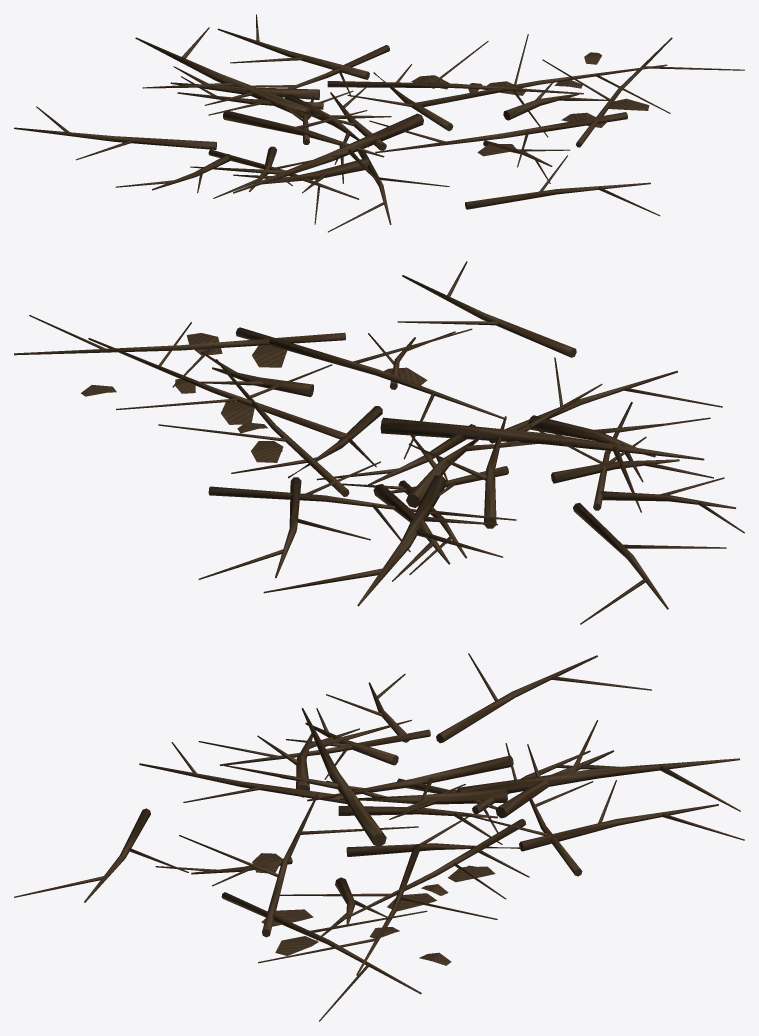
File: Small_Deadwood_Scatter_01_LOD0.fbx
3 renders of one model, top to bottom at view 1: azimuth 30°, elevation 25°; view 2: azimuth 150°, elevation 25°; view 3: azimuth 270°, elevation 25°, orthographic. The views are drawn at different scales.
Parts seen in each view (by area): view 1: Small_Deadwood_Scatter_01_LOD0_Mesh; view 2: Small_Deadwood_Scatter_01_LOD0_Mesh; view 3: Small_Deadwood_Scatter_01_LOD0_Mesh.
Part boxes in pixels (left/top/right/bottom): Small_Deadwood_Scatter_01_LOD0_Mesh: left=14, top=14, right=744, bottom=232; Small_Deadwood_Scatter_01_LOD0_Mesh: left=14, top=261, right=744, bottom=624; Small_Deadwood_Scatter_01_LOD0_Mesh: left=14, top=653, right=744, bottom=1021.
Size of the model in its own units: 182 by 4.85 by 157.
Materials: 1 (1 with a texture image).
